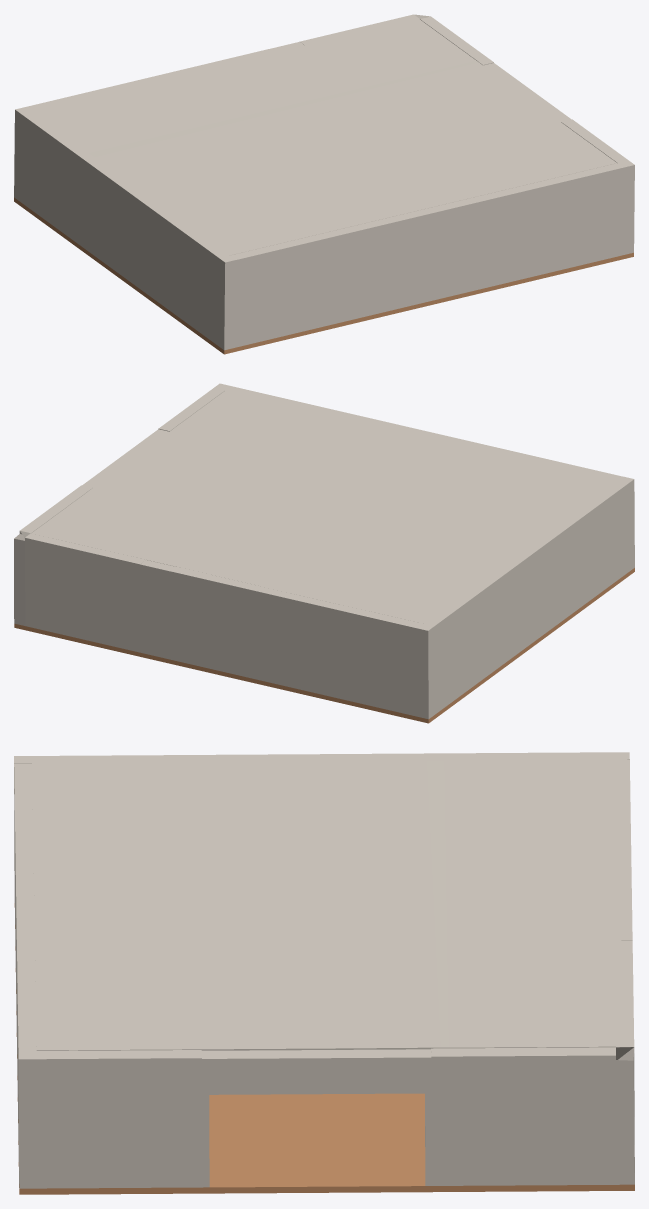
Rendered from albaymarife.glb.
3 views of the same model, one above another, from view 1: azimuth 30°, elevation 25°; view 2: azimuth 150°, elevation 25°; view 3: azimuth 270°, elevation 25° (orthographic). The views are drawn at different scales.
Visible parts, largest first — view 1: Plano; view 2: Plano; view 3: Plano.
Part boxes in pixels (x1,y1,x2,y2): Plano: (14,14,634,354); Plano: (14,383,634,723); Plano: (14,752,634,1194).
Size of the model in its own units: 24.49 by 5.49 by 21.44.
